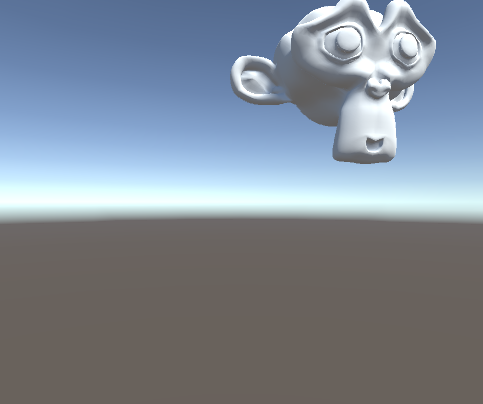monkey: (225, 1, 441, 166)
